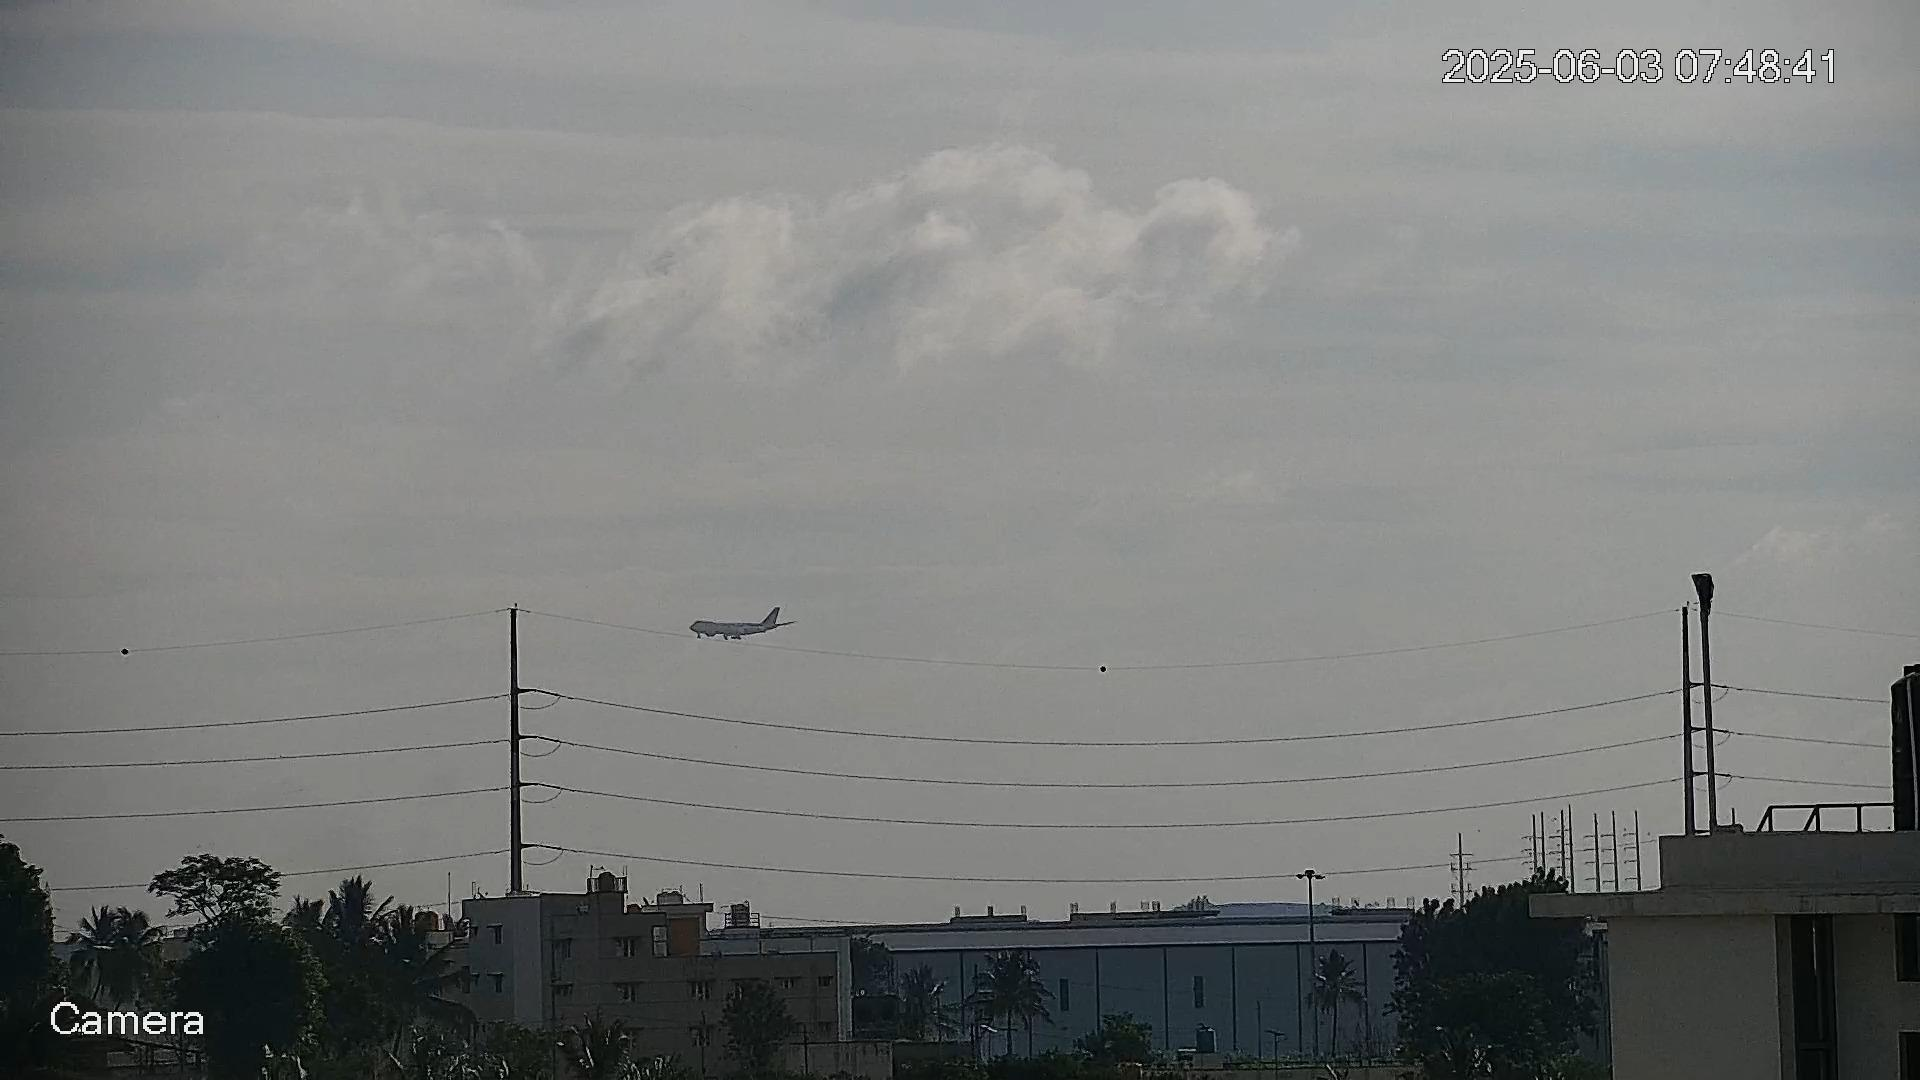Aircraft: (691, 608, 794, 641)
